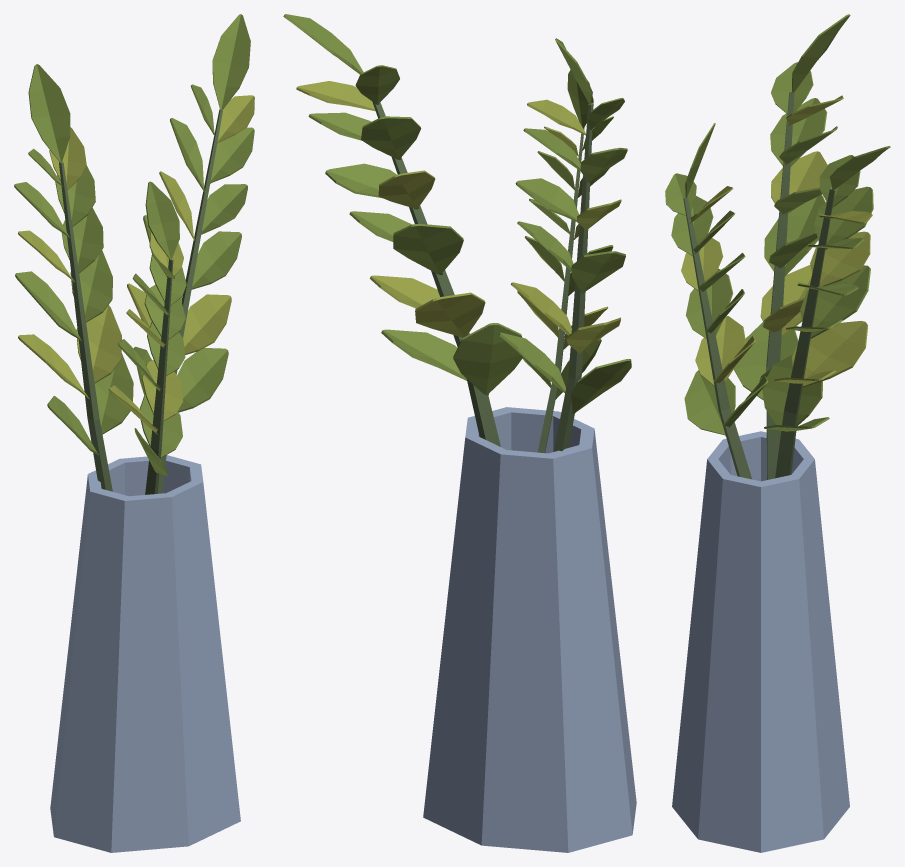
Rendered from Vase_04.fbx.
The picture shows the model from 3 angles, left to right: view 1: azimuth 30°, elevation 25°; view 2: azimuth 150°, elevation 25°; view 3: azimuth 270°, elevation 25°; orthographic projection. The views are drawn at different scales.
Parts seen in each view (by area): view 1: Vase_04; view 2: Vase_04; view 3: Vase_04.
Part boxes in pixels (x1,y1,x2,y2): Vase_04: (14,14,254,852); Vase_04: (283,14,636,852); Vase_04: (665,14,890,852).
Size of the model in its own units: 29.34 by 78.32 by 21.1.
